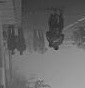person: (45, 12, 66, 51), (6, 24, 16, 55), (16, 28, 27, 55), (37, 31, 47, 54), (31, 28, 39, 52)
